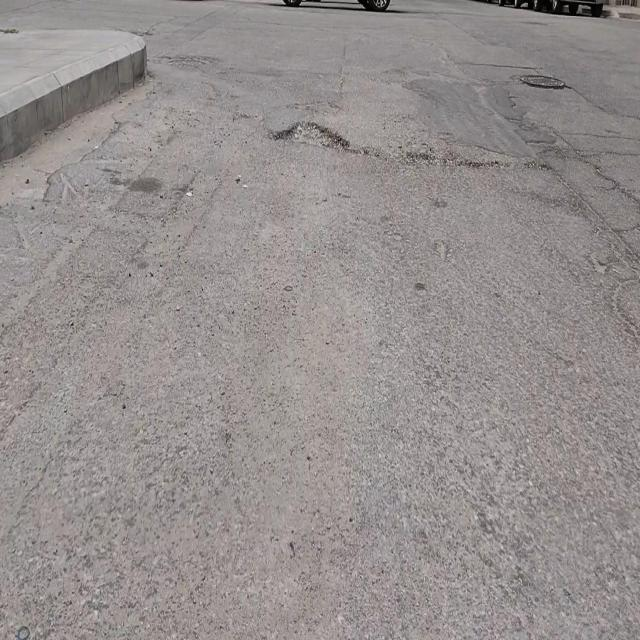Pothole: (271, 116, 353, 154)
